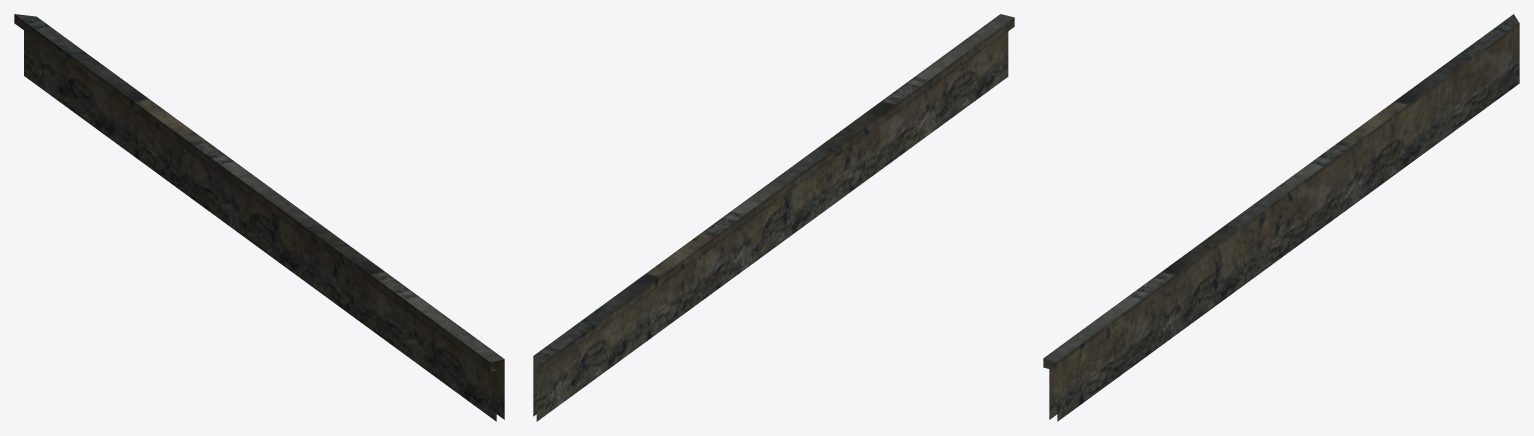
Rendered from Roof_SideWall_03.FBX.
The picture shows the model from 3 angles, left to right: view 1: azimuth 30°, elevation 25°; view 2: azimuth 150°, elevation 25°; view 3: azimuth 330°, elevation 25°; orthographic projection.
Visible parts, largest first — view 1: Roof_SideWall_03; view 2: Roof_SideWall_03; view 3: Roof_SideWall_03.
Part boxes in pixels (x1,y1,x2,y2): Roof_SideWall_03: (14, 14, 504, 421); Roof_SideWall_03: (533, 14, 1014, 421); Roof_SideWall_03: (1043, 14, 1519, 421).
Size of the model in its own units: 22.66 by 92.93 by 1318.
